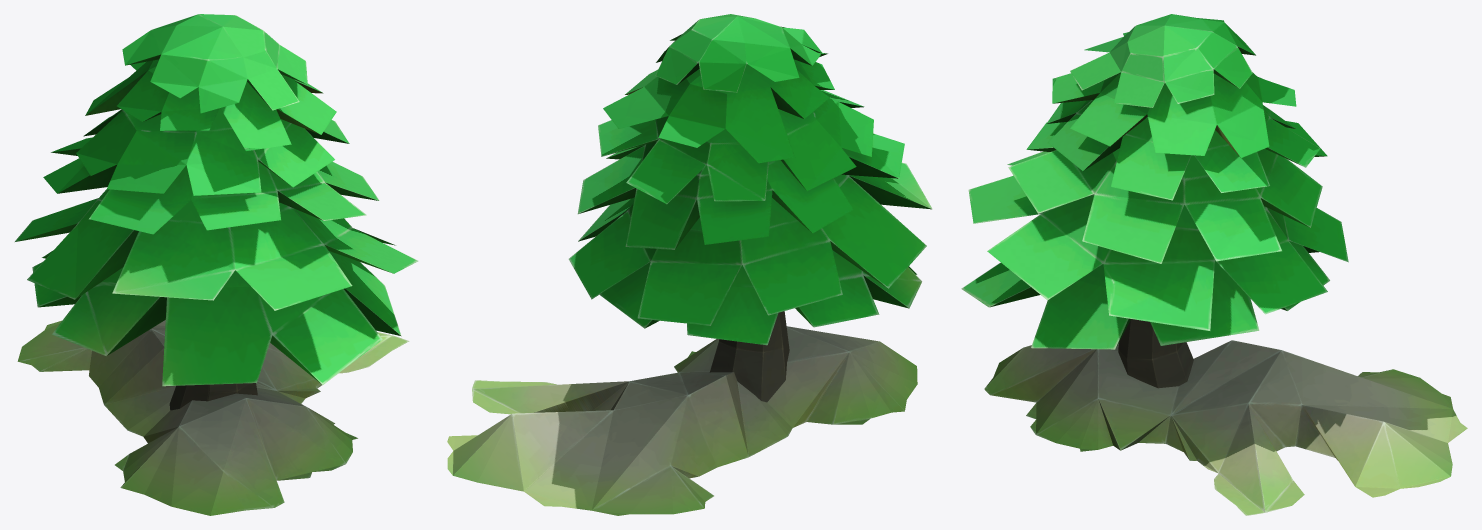
The model's file is tree.fbx.
3 views of the same model, side by side, from view 1: azimuth 30°, elevation 25°; view 2: azimuth 150°, elevation 25°; view 3: azimuth 270°, elevation 25° (orthographic). The views are drawn at different scales.
Visible parts, largest first — view 1: shu3:polySurface41; view 2: shu3:polySurface41; view 3: shu3:polySurface41.
Part boxes in pixels (x1=…): shu3:polySurface41: x1=15, y1=14, x2=418, y2=515; shu3:polySurface41: x1=447, y1=14, x2=932, y2=515; shu3:polySurface41: x1=961, y1=14, x2=1467, y2=515.
Bounding box in the file's own units: 17.55 × 16.6 × 19.88.
